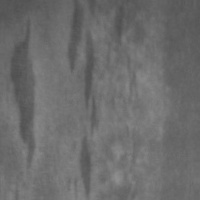inclusion: (60, 0, 106, 198), (3, 13, 43, 173), (109, 1, 130, 47)
